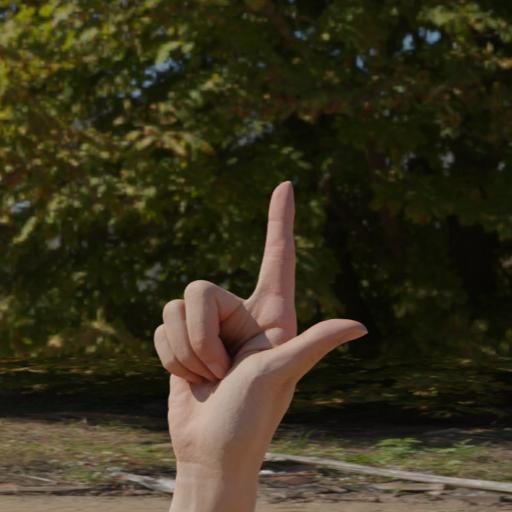L: (137, 170, 379, 500)
